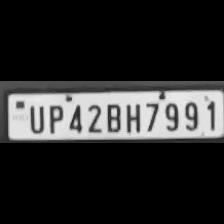1: (200, 99, 220, 131)
2: (84, 101, 103, 133)
4: (64, 101, 84, 133)
7: (142, 100, 160, 132)
9: (160, 100, 180, 132), (180, 99, 200, 131)
B: (104, 100, 122, 132)
H: (122, 100, 142, 132)
P: (44, 102, 64, 134)
U: (25, 102, 45, 134)
